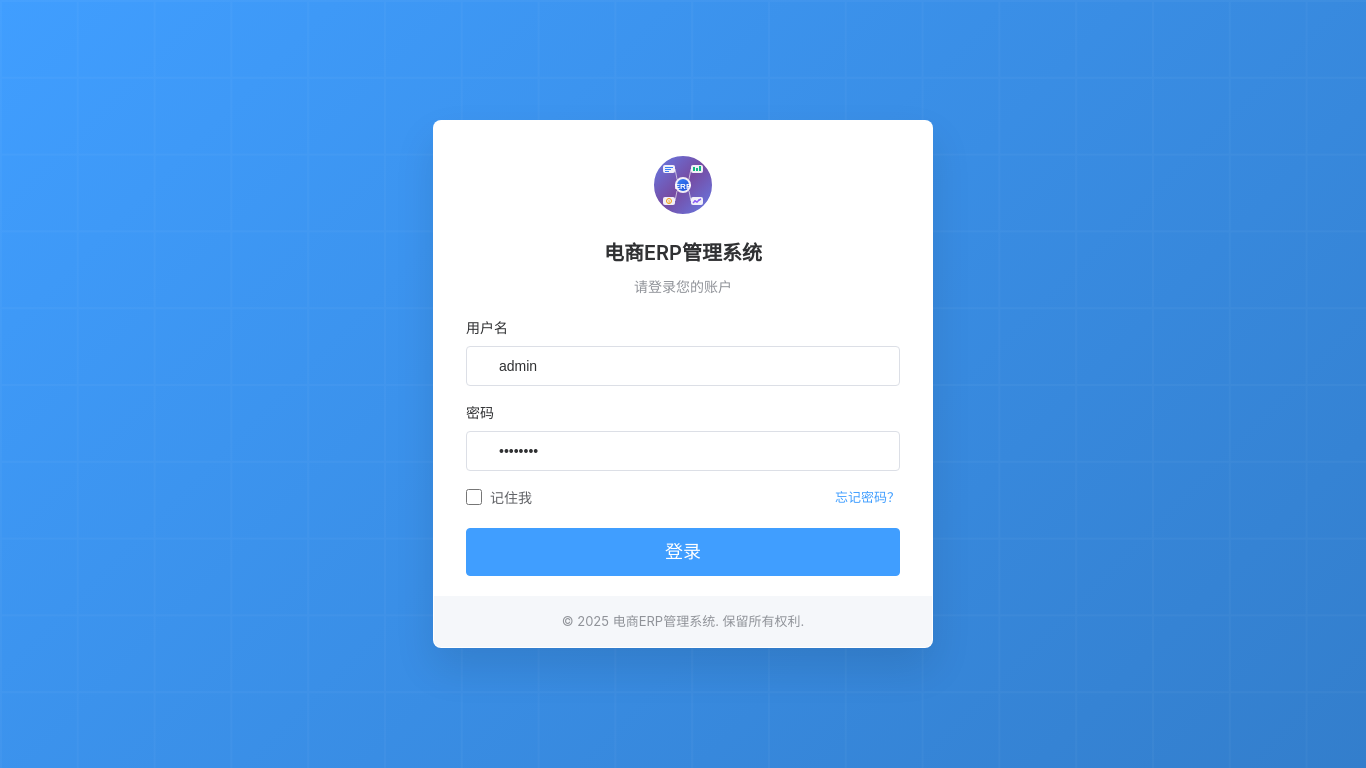
Test: LoginView › 应该验证必填字段
// 清空用户名和密码
Clear the field named "username" at (683, 366), box [466, 346, 900, 386]
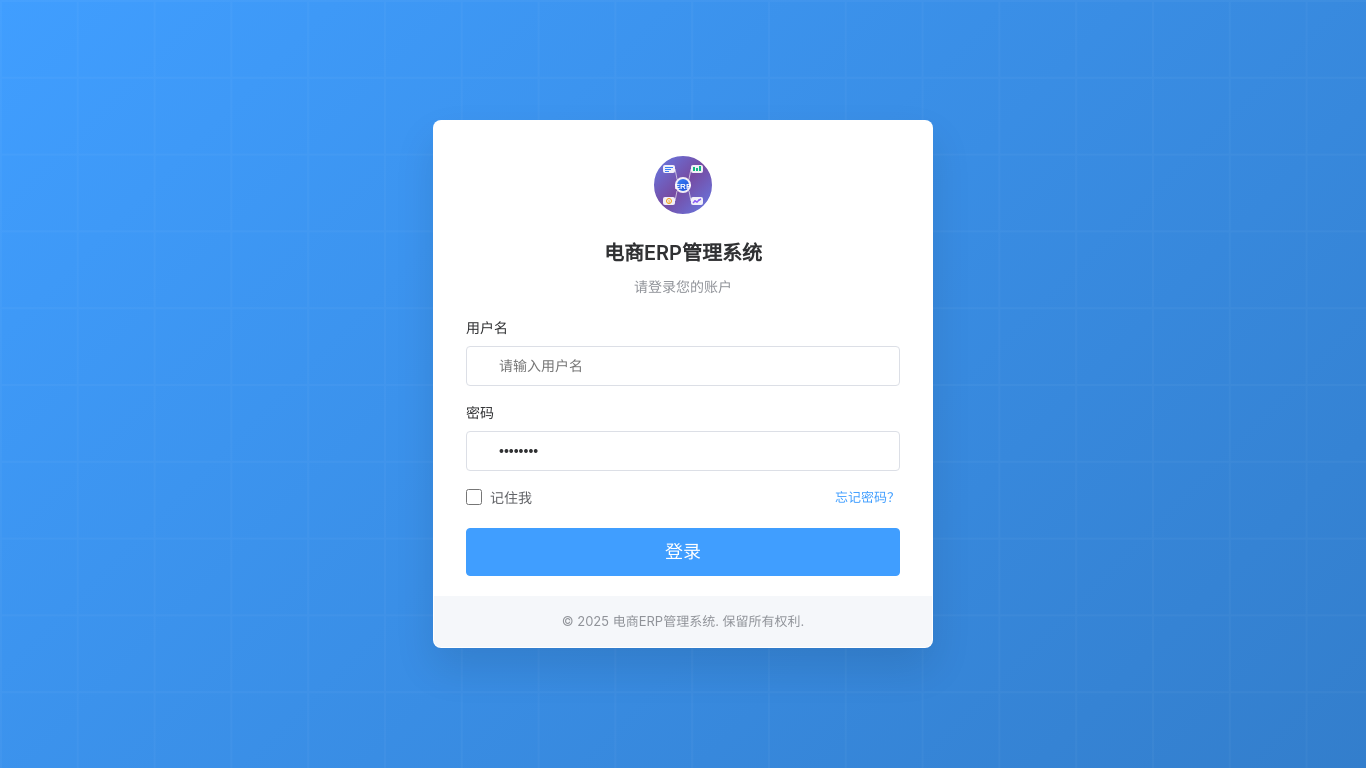
Clear the password field named "password" at (683, 451), box [466, 431, 900, 471]
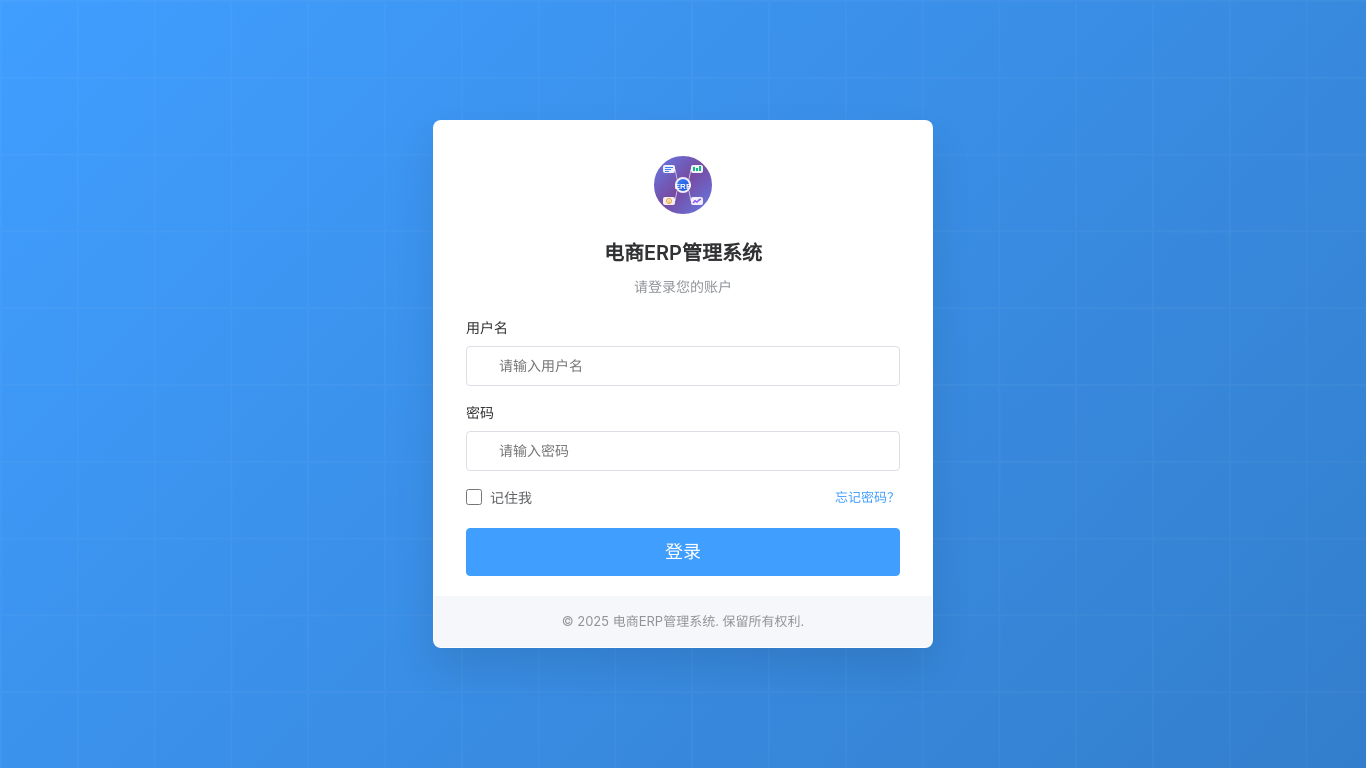
Submit the form with class "login-form", box [434, 317, 932, 596]
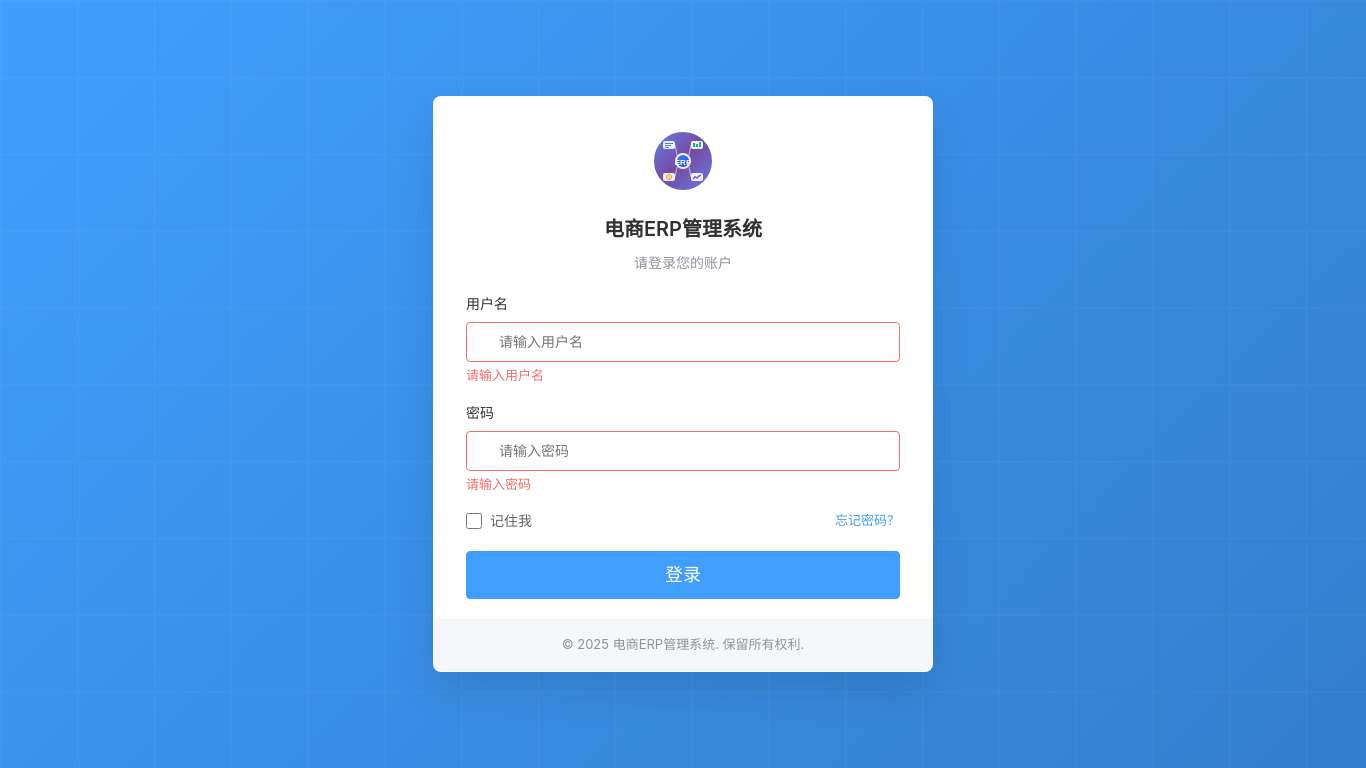
Result: the text "请输入用户名" is shown at [466, 367, 544, 383]
